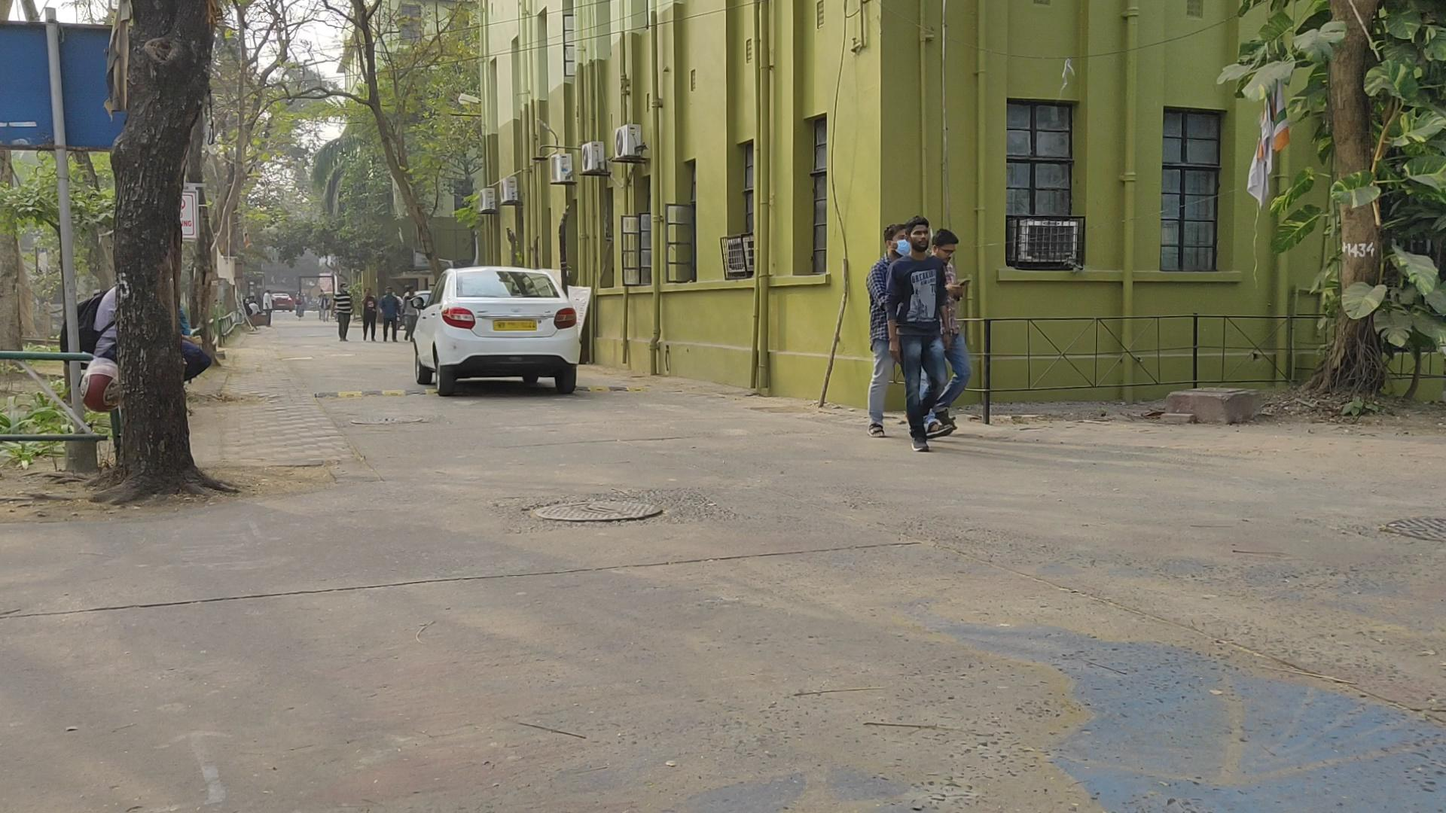car: (410, 265, 579, 396)
